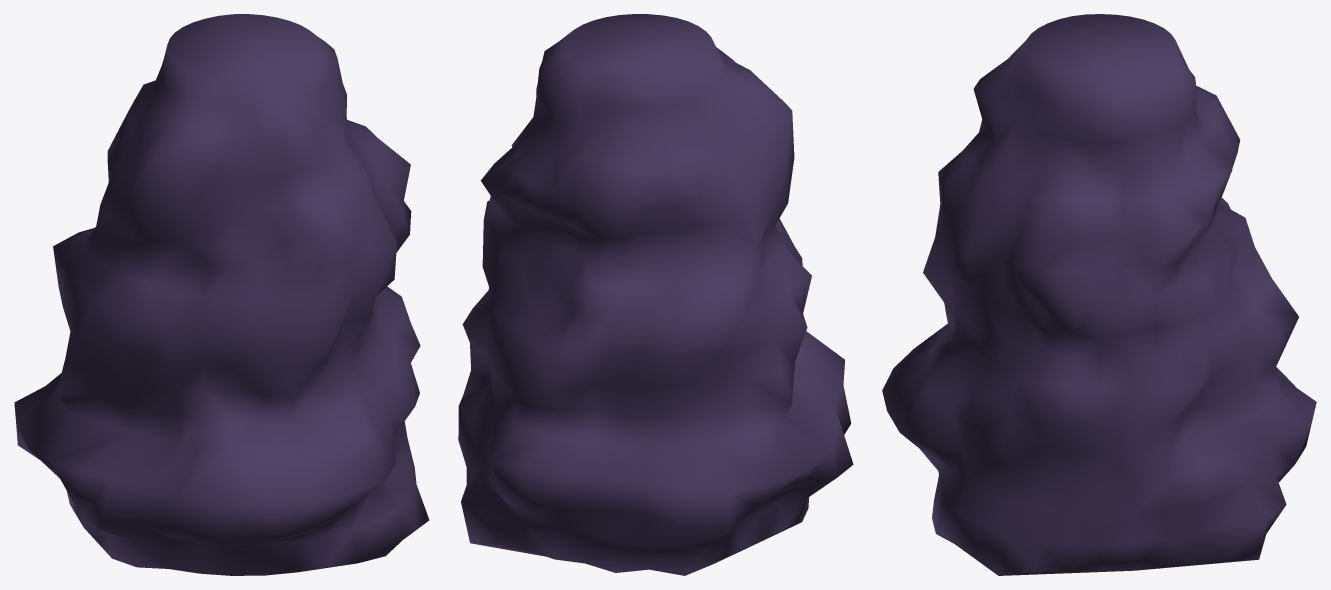
Rendered from büyücükulesi (1).fbx.
The picture shows the model from 3 angles, left to right: view 1: azimuth 30°, elevation 25°; view 2: azimuth 150°, elevation 25°; view 3: azimuth 270°, elevation 25°; orthographic projection. The views are drawn at different scales.
Visible parts, largest first — view 1: büyücükulesi; view 2: büyücükulesi; view 3: büyücükulesi.
Boxes of the visible parts, x1,y1,x2,y2 form: büyücükulesi: (14,14,429,575); büyücükulesi: (458,14,853,575); büyücükulesi: (882,14,1316,575).
Bounding box in the file's own units: 318 × 409 × 343.
